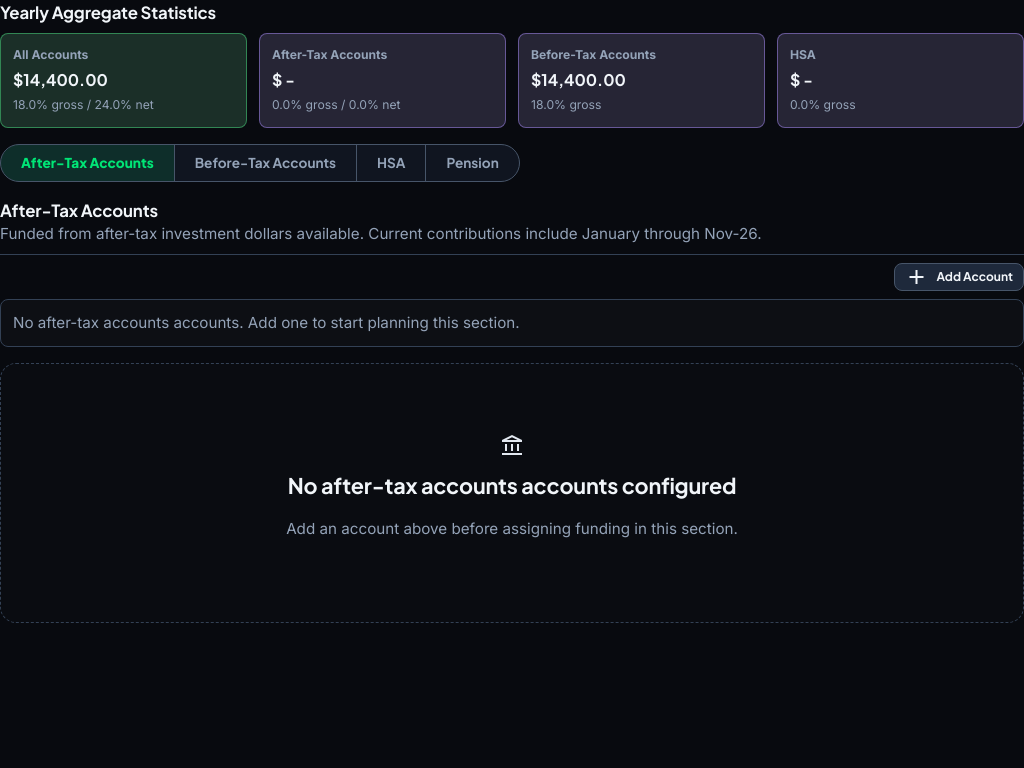
Test: FundingSchedulePage › splits before-tax payroll accounts into employee and employer match columns
What coordinates should you click on to do the following:
click the tab "Before-Tax Accounts"
I would click on:
 (266, 163)
Its box is 175,145 -> 357,181.
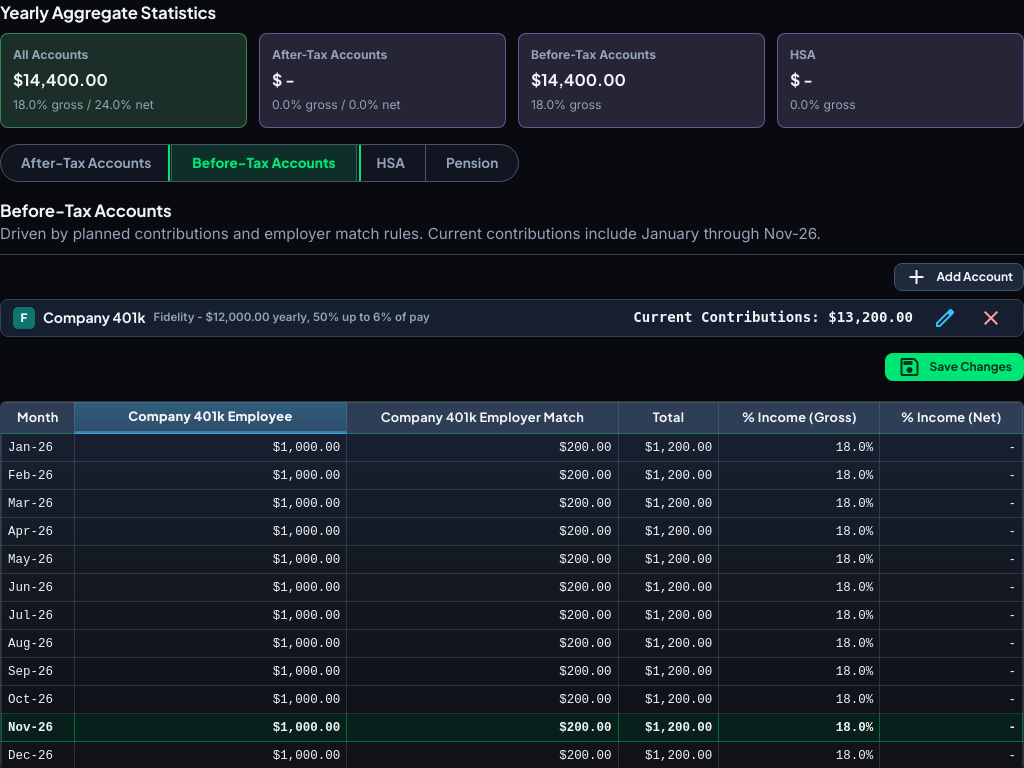
Result: the column heading "Company 401k Employee" is shown at 74,402 -> 347,434
Result: the column heading "Company 401k Employer Match" is shown at 347,402 -> 618,434
Result: the text "$1,000.00" next to "Jan-26" is shown at 273,441 -> 340,455
